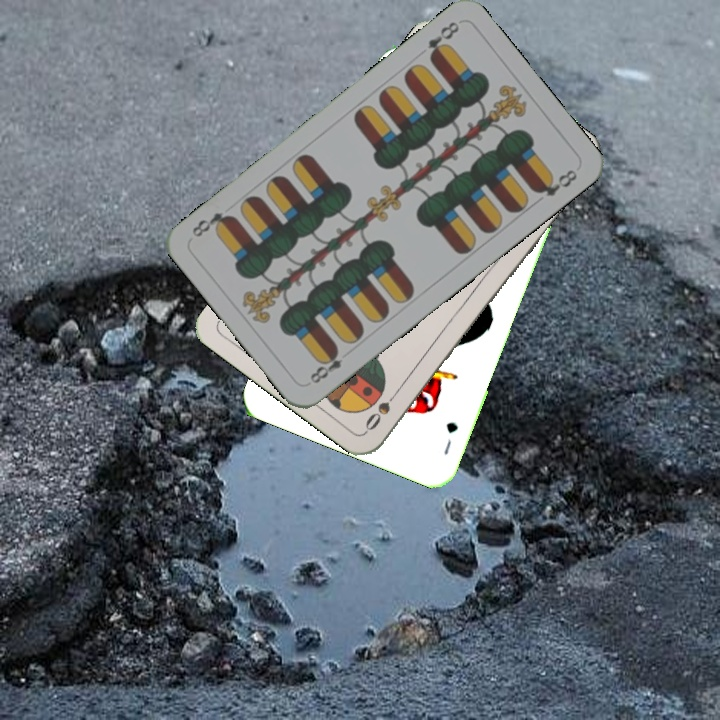E8: (423, 17, 462, 64), (306, 344, 346, 386)
GU: (439, 417, 461, 458)
SO: (361, 383, 403, 434)
